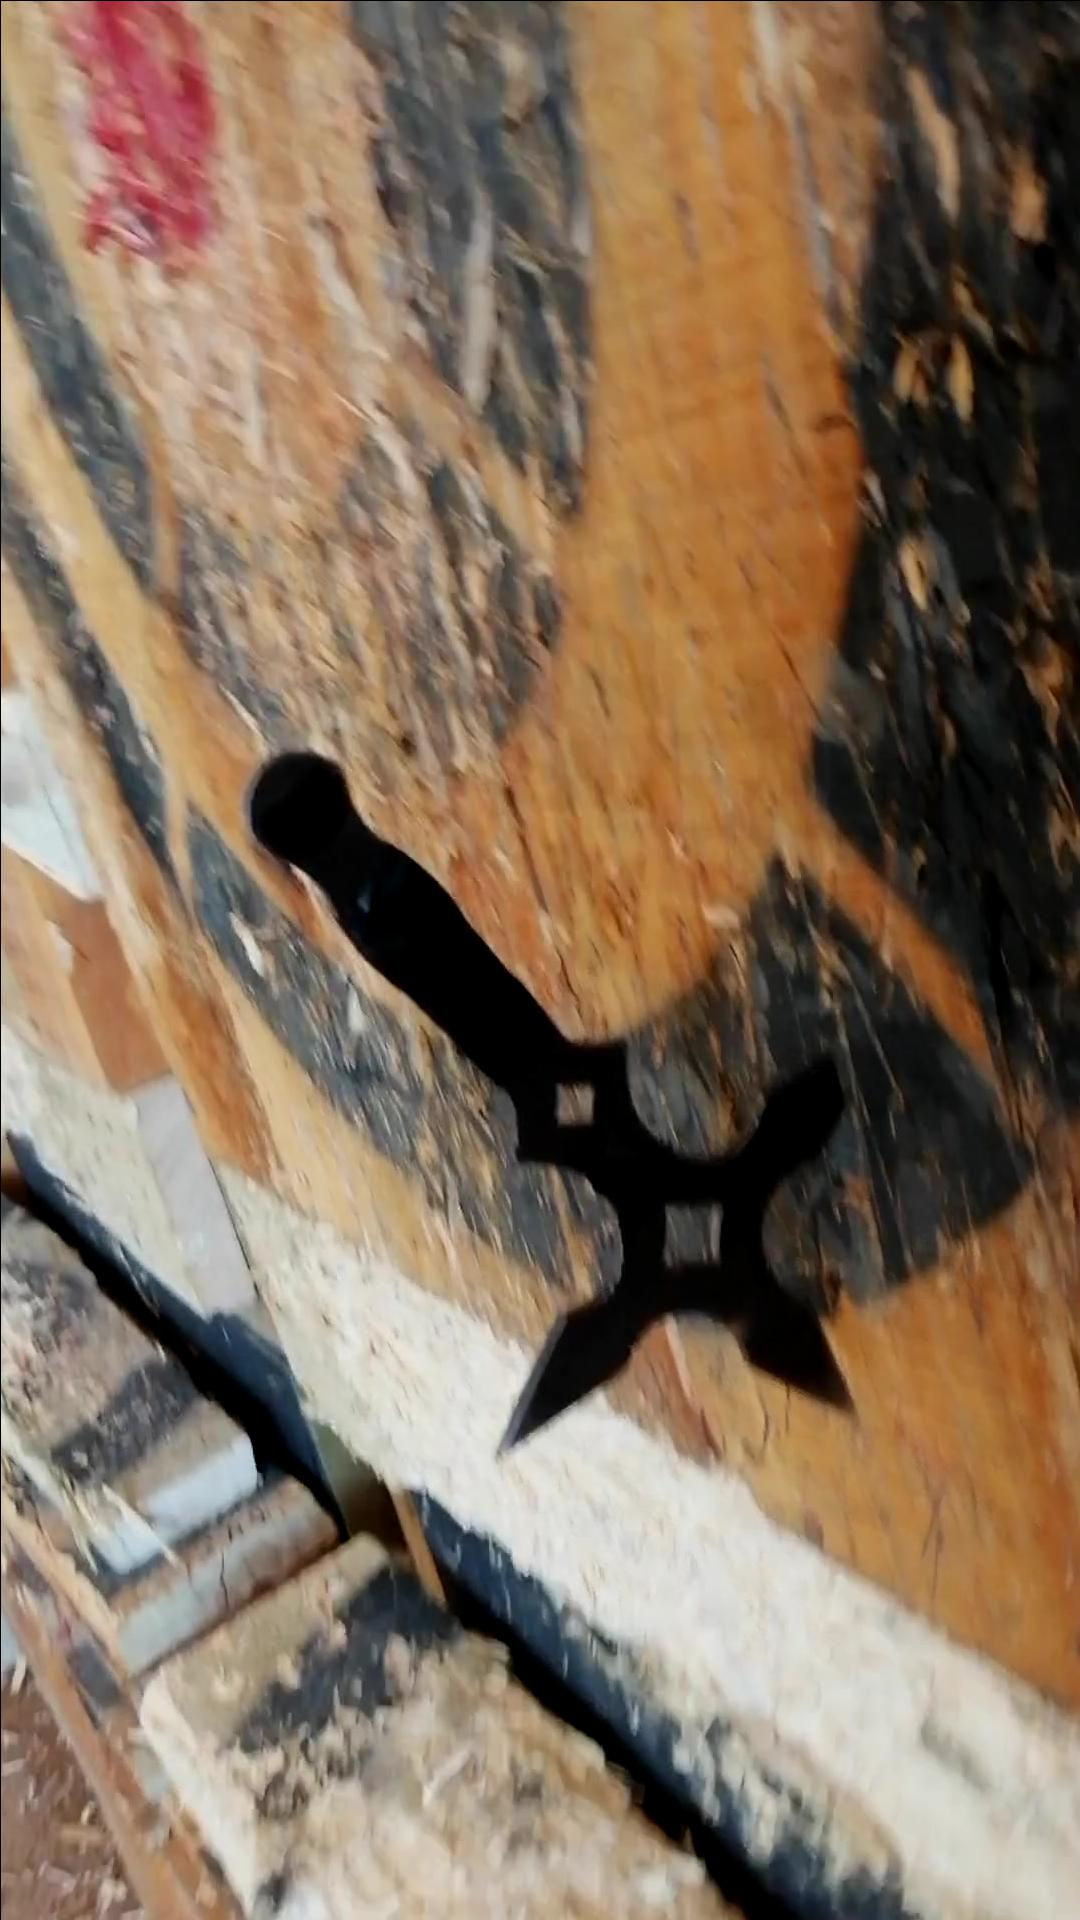Hand Axe: (243, 740, 857, 1460)
